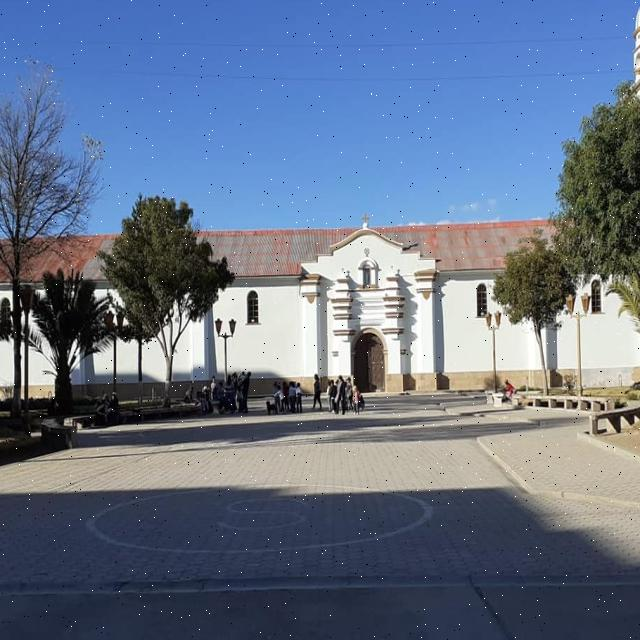PORTADA CENTRAL: (343, 331, 396, 407)
SIMETRIA COLONIAL: (0, 211, 640, 413)
